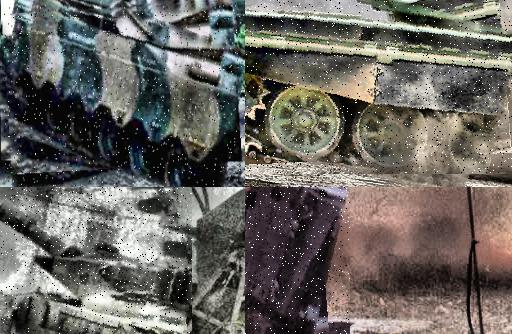tanks: (246, 1, 512, 174), (5, 6, 246, 188), (1, 199, 193, 334), (246, 188, 348, 334)
